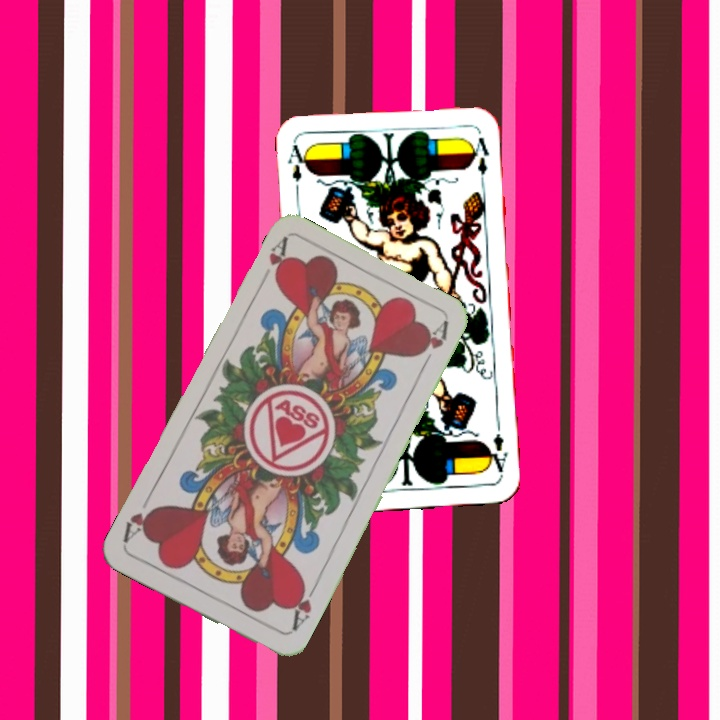EA: (284, 139, 311, 198), (483, 430, 510, 479)
HA: (255, 234, 293, 289), (286, 576, 320, 634)
